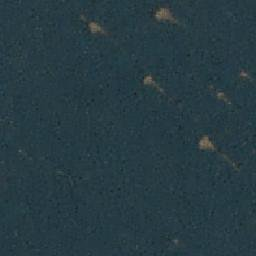debris: (198, 132, 229, 162), (139, 75, 165, 94), (81, 19, 108, 36), (152, 5, 176, 21), (216, 88, 232, 106), (238, 66, 252, 81)
